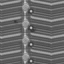dust: (13, 19, 17, 23), (30, 29, 34, 32)
